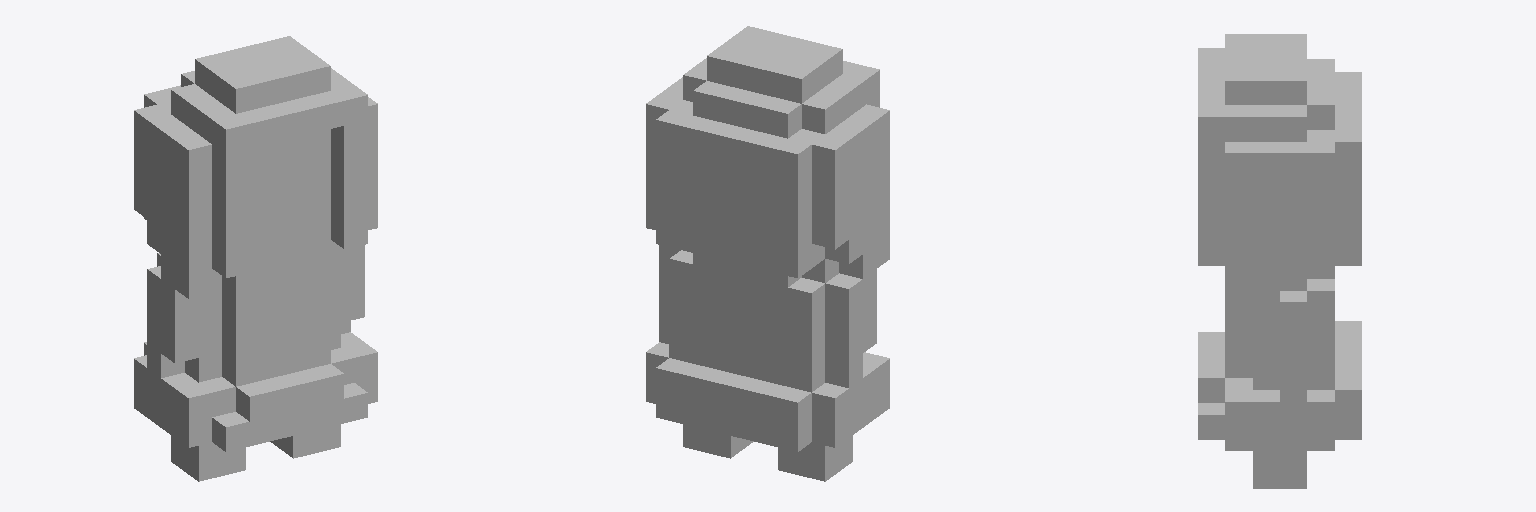
File: chr_girl.obj
3 views of the same model, side by side, from view 1: azimuth 30°, elevation 25°; view 2: azimuth 150°, elevation 25°; view 3: azimuth 270°, elevation 25° (orthographic).
Parts seen in each view (by area): view 1: chr_girl; view 2: chr_girl; view 3: chr_girl.
Part boxes in pixels (left/top/right/bottom): chr_girl: left=134, top=36, right=377, bottom=481; chr_girl: left=646, top=26, right=889, bottom=481; chr_girl: left=1198, top=34, right=1361, bottom=488.
Bounding box in the file's own units: 8 × 16 × 6.